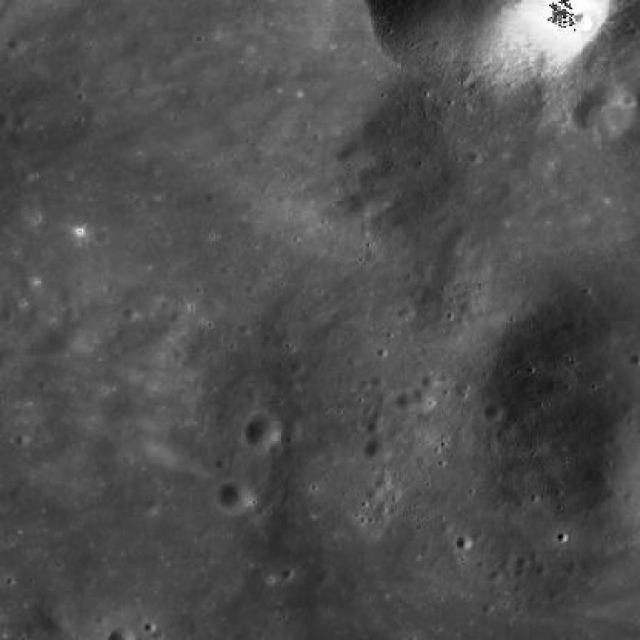crater: (398, 250, 509, 352), (574, 83, 634, 140), (43, 322, 85, 360), (244, 414, 281, 448), (217, 481, 252, 514), (338, 142, 367, 170), (347, 192, 375, 218), (364, 436, 392, 461), (44, 613, 68, 635), (412, 389, 434, 409), (420, 287, 440, 307), (396, 393, 416, 412), (597, 120, 617, 138), (483, 405, 503, 423), (572, 12, 592, 30), (8, 36, 26, 52), (420, 374, 438, 390), (456, 535, 473, 551), (12, 114, 28, 130), (376, 474, 392, 489), (366, 487, 382, 502)
